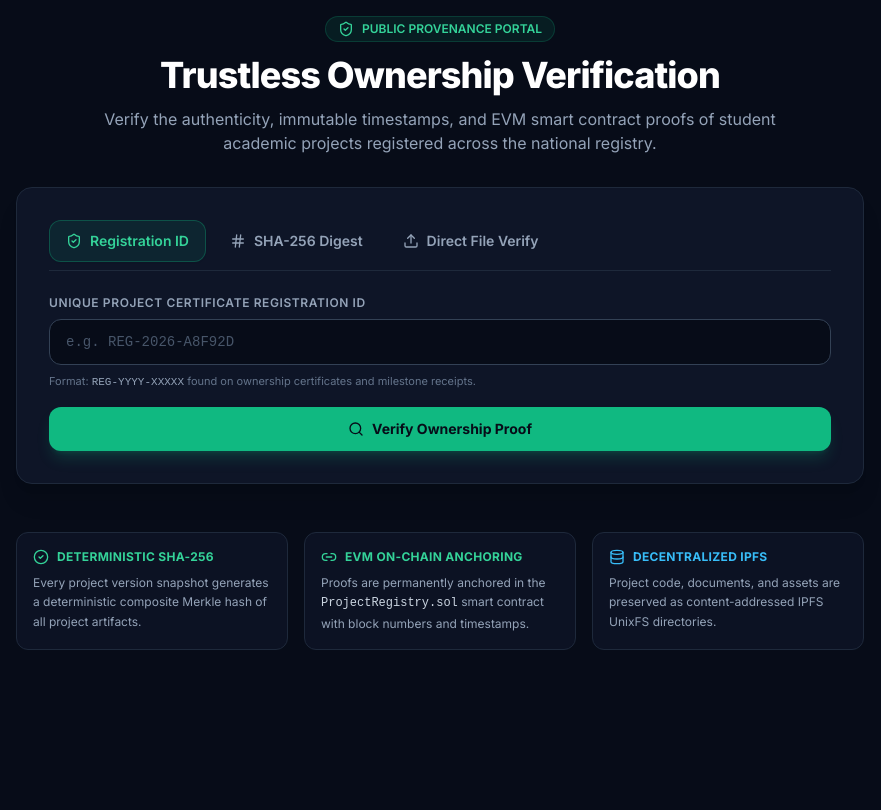
it: Ownership Verification Module Tests › VerificationPortalPage — Public Search Portal › switches to SHA-256 tab and verifies valid 64-char hash
Click the tab "SHA-256 Digest" at (296, 241), box [214,220,379,262]
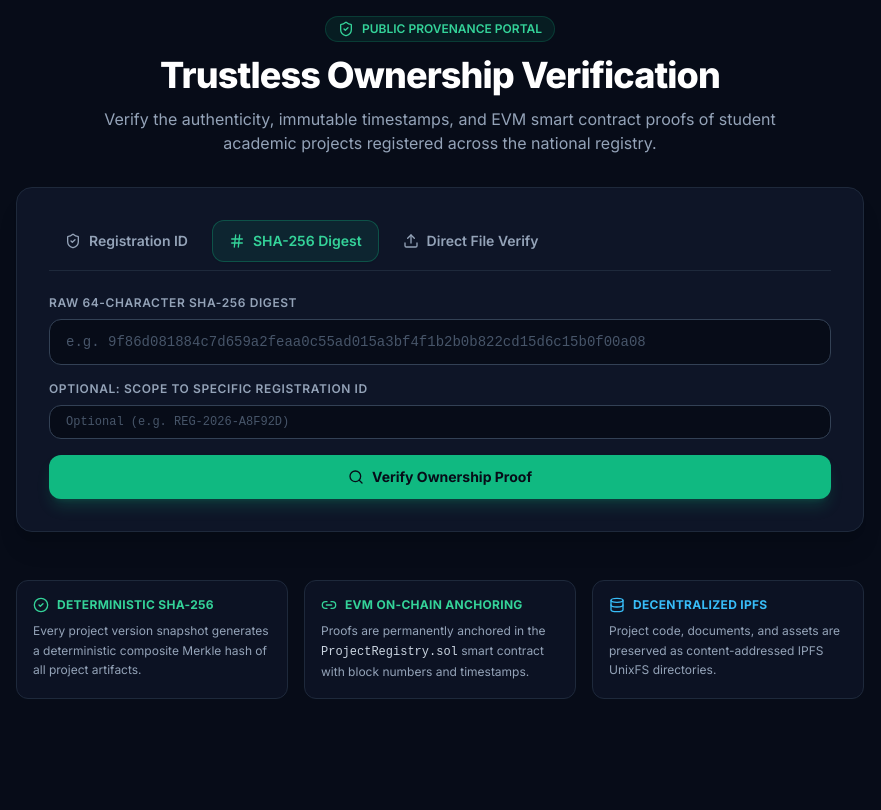
Replace the text in the field with placeholder "9f86d081884c7d659a2feaa0c55ad015a3bf4f1b2b0b822cd15d6c15b0f00a08" with "9f86d081884c7d659a2feaa0c55ad015a3bf4f1b2b0b822cd15d6c15b0f00a08" at (440, 342), box [49,319,831,365]
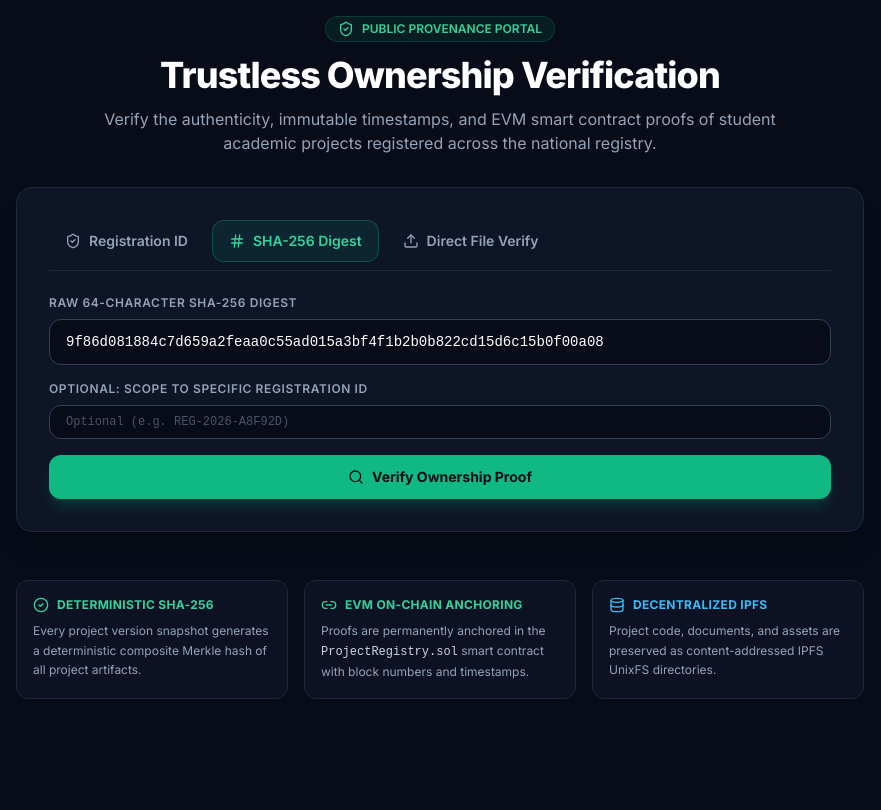
Click the button "Verify Ownership Proof" at (440, 477), box [49,455,831,499]
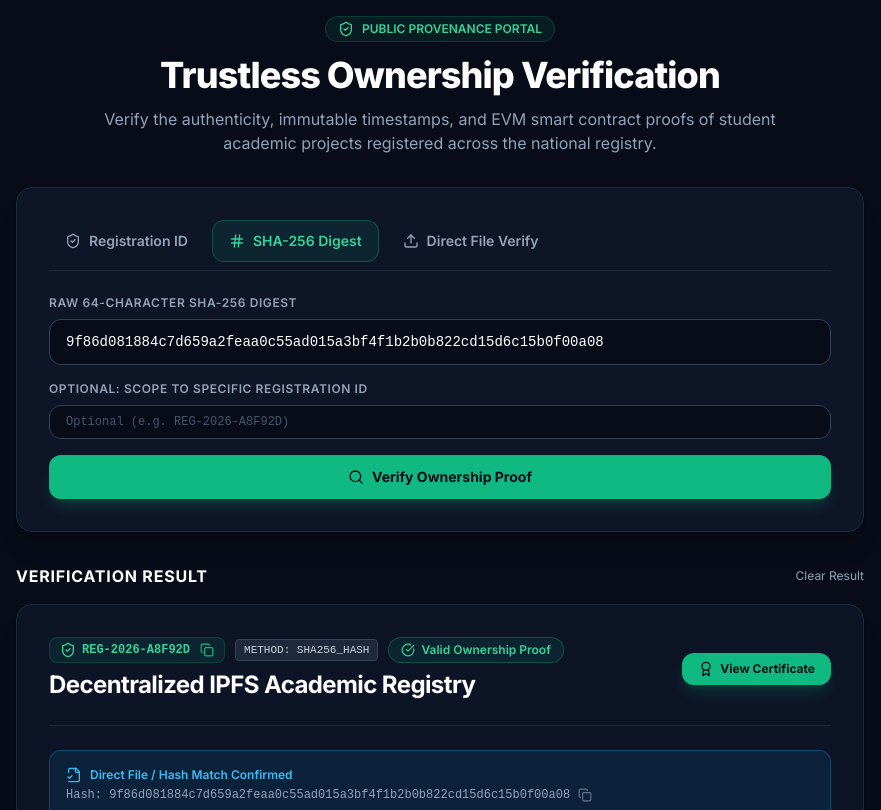
Expected: the text "Direct File / Hash Match Confirmed" is shown, [90,767,293,783]
Expected: the text "Valid Ownership Proof" is shown, [422,642,551,658]
